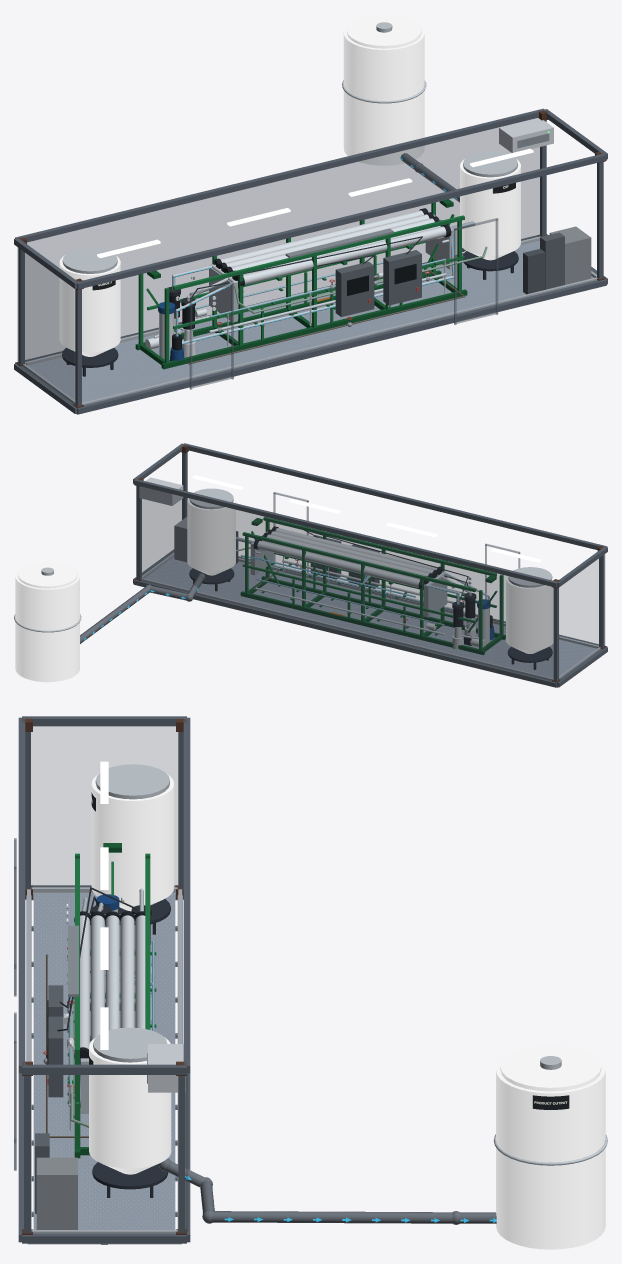
The model's file is OilTrap CCRO System 3D Asset NEW.glb.
3 renders of one model, top to bottom at view 1: azimuth 30°, elevation 25°; view 2: azimuth 150°, elevation 25°; view 3: azimuth 270°, elevation 25°, orthographic. The views are drawn at different scales.
Visible parts, largest first — view 1: export-ccro, object 24, object 26, object 9, object 22, object 54, object 28, object 20, object 11, object 30, object 36, object 17 (+1 smaller); view 2: export-ccro, object 24, object 26, object 22, object 9, object 30, object 28, object 20, object 11, object 48, object 54, object 42 (+2 smaller); view 3: export-ccro, object 24, object 26, object 9, object 22, object 28, object 20, object 11, object 36, object 48, object 42, object 17 (+2 smaller).
Part boxes in pixels (bbox=[...]): export-ccro: bbox=[14, 22, 607, 414]; object 24: bbox=[343, 90, 424, 165]; object 26: bbox=[343, 23, 424, 100]; object 9: bbox=[59, 292, 120, 352]; object 22: bbox=[460, 159, 520, 224]; object 54: bbox=[243, 226, 446, 285]; object 28: bbox=[347, 14, 421, 48]; object 20: bbox=[460, 213, 520, 255]; object 11: bbox=[59, 255, 120, 304]; object 30: bbox=[220, 210, 423, 262]; object 36: bbox=[225, 214, 429, 266]; object 17: bbox=[462, 251, 518, 271]; export-ccro: bbox=[14, 443, 607, 687]; object 24: bbox=[15, 622, 79, 682]; object 26: bbox=[15, 568, 79, 630]; object 22: bbox=[187, 494, 235, 547]; object 9: bbox=[506, 604, 553, 650]; object 30: bbox=[257, 541, 419, 587]; object 28: bbox=[18, 561, 77, 588]; object 20: bbox=[187, 538, 235, 571]; object 11: bbox=[506, 573, 554, 612]; object 48: bbox=[271, 531, 433, 573]; object 54: bbox=[275, 528, 437, 569]; object 42: bbox=[267, 534, 428, 576]; export-ccro: bbox=[14, 716, 607, 1244]; object 24: bbox=[496, 1148, 605, 1249]; object 26: bbox=[496, 1057, 605, 1162]; object 9: bbox=[91, 823, 174, 905]; object 22: bbox=[89, 1037, 171, 1126]; object 28: bbox=[500, 1045, 601, 1091]; object 20: bbox=[89, 1110, 171, 1168]; object 11: bbox=[91, 774, 174, 840]; object 36: bbox=[120, 915, 134, 1027]; object 48: bbox=[90, 915, 104, 1041]; object 42: bbox=[105, 915, 119, 1030]; object 17: bbox=[92, 1162, 168, 1189].
Bounding box in the file's own units: 12.49 × 2.96 × 8.78.
737 materials, 4 textured.
